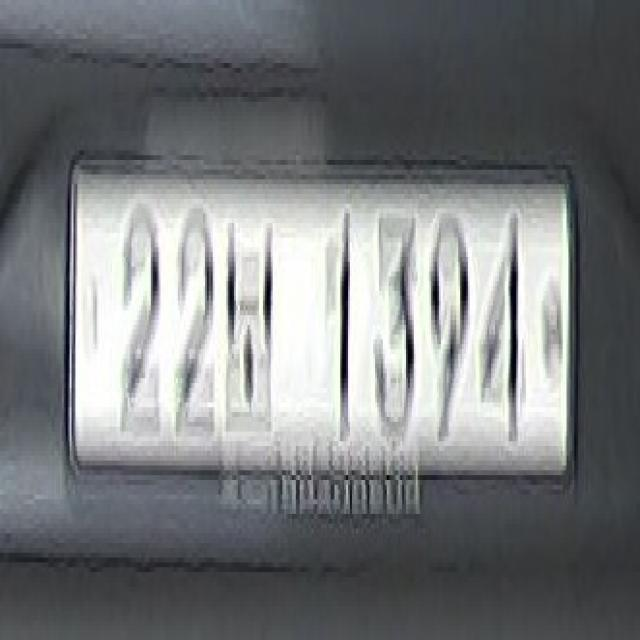1: (317, 200, 360, 446)
2: (112, 191, 167, 444), (172, 195, 222, 445)
3: (370, 196, 426, 453)
4: (475, 207, 536, 451)
9: (423, 206, 480, 449)
bo: (224, 208, 279, 443)
license_plate: (75, 169, 567, 470)
